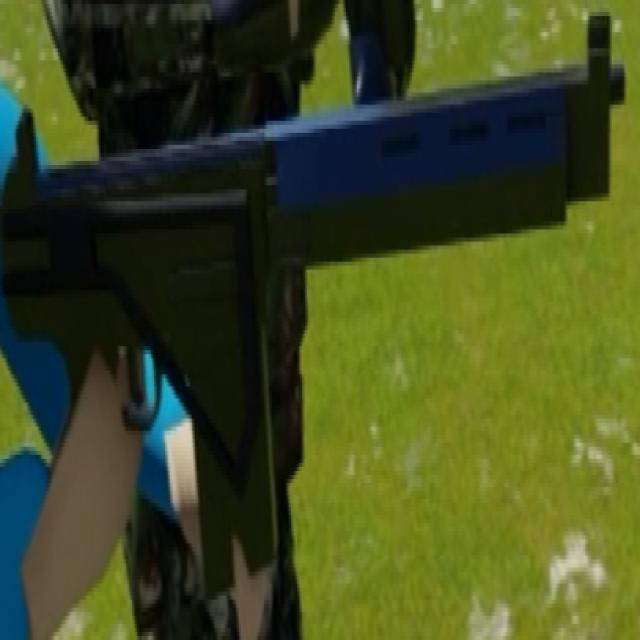Rifle: (2, 29, 630, 579)
